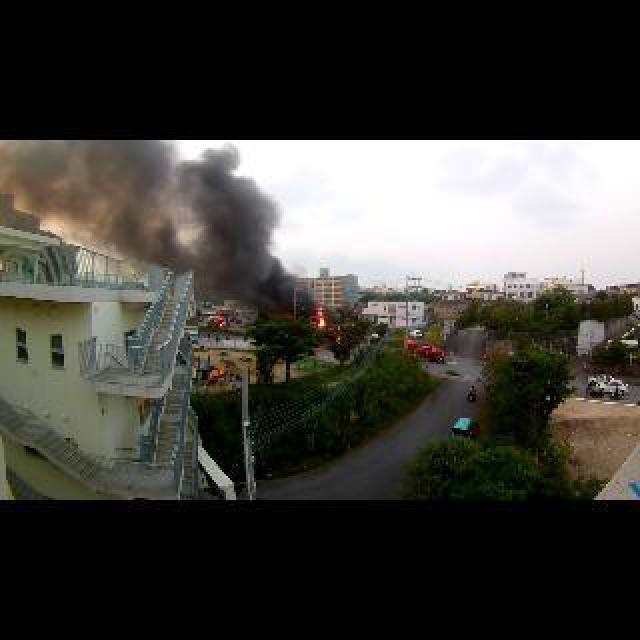Fire: (316, 308, 328, 326)
Smoke: (2, 140, 190, 258), (192, 142, 306, 324)
